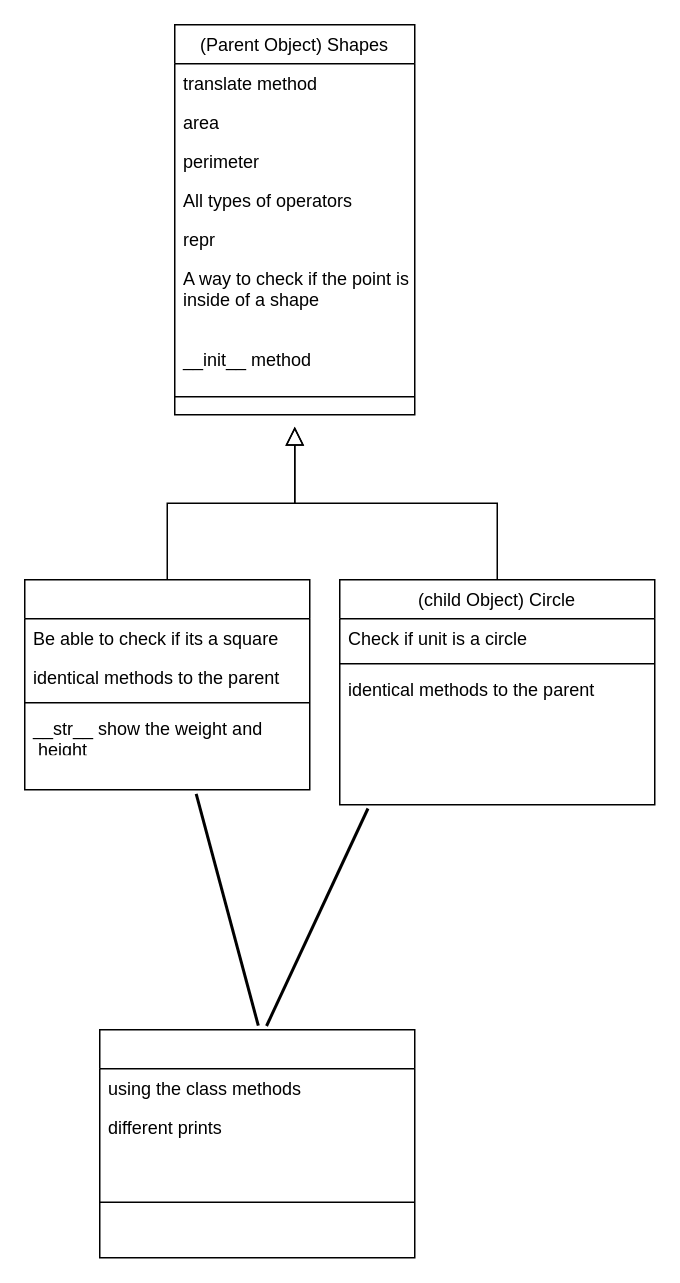
The diagram is 680 pixels wide and 1283 high, and some of its shapes have lost their labels. The shapes that lost their labels are listed below. From the top down, each one's box as (x1, y1, x2, y2) in pixels, then its label:
(23, 578, 310, 790): (child Object) Rectangle
(98, 1028, 415, 1258): Example of how to use the classes
